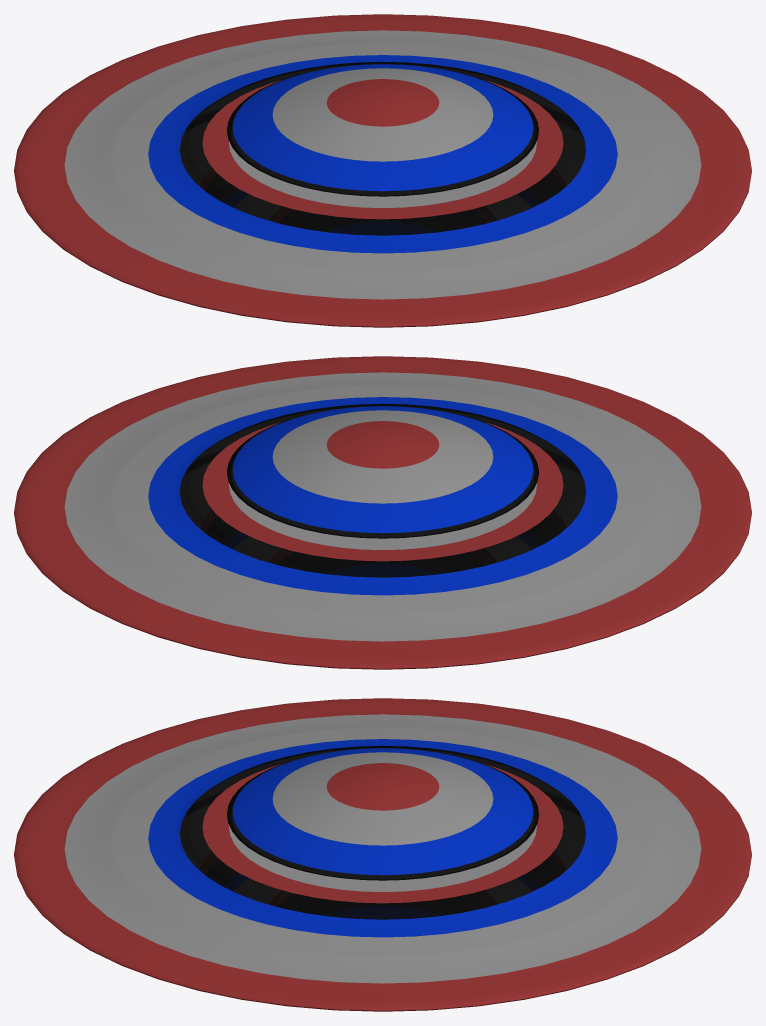
The model's file is large saucer.fbx.
The picture shows the model from 3 angles, top to bottom: view 1: azimuth 30°, elevation 25°; view 2: azimuth 150°, elevation 25°; view 3: azimuth 270°, elevation 25°; orthographic projection.
Parts seen in each view (by area): view 1: pCylinder2; view 2: pCylinder2; view 3: pCylinder2.
Boxes of the visible parts, x1,y1,x2,y2 form: pCylinder2: [14, 14, 751, 327]; pCylinder2: [14, 356, 751, 669]; pCylinder2: [14, 698, 751, 1011].
Size of the model in its own units: 7.58 by 1.97 by 7.58.
